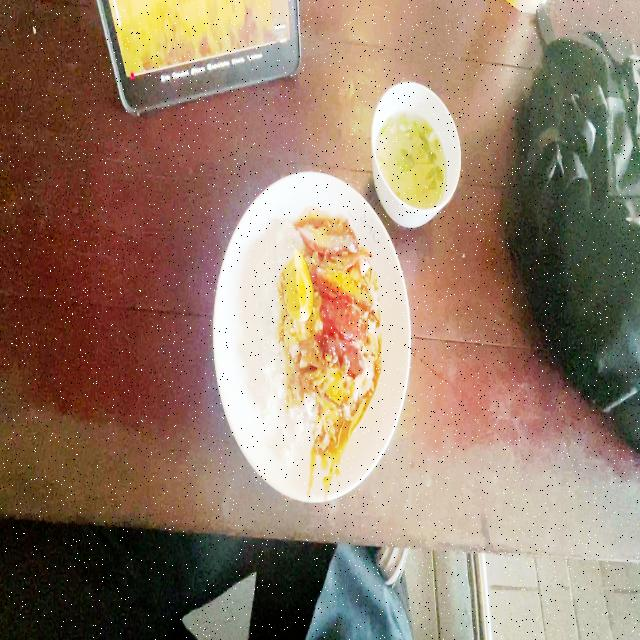red_pork_and_crispy_pork: (258, 223, 375, 439)
